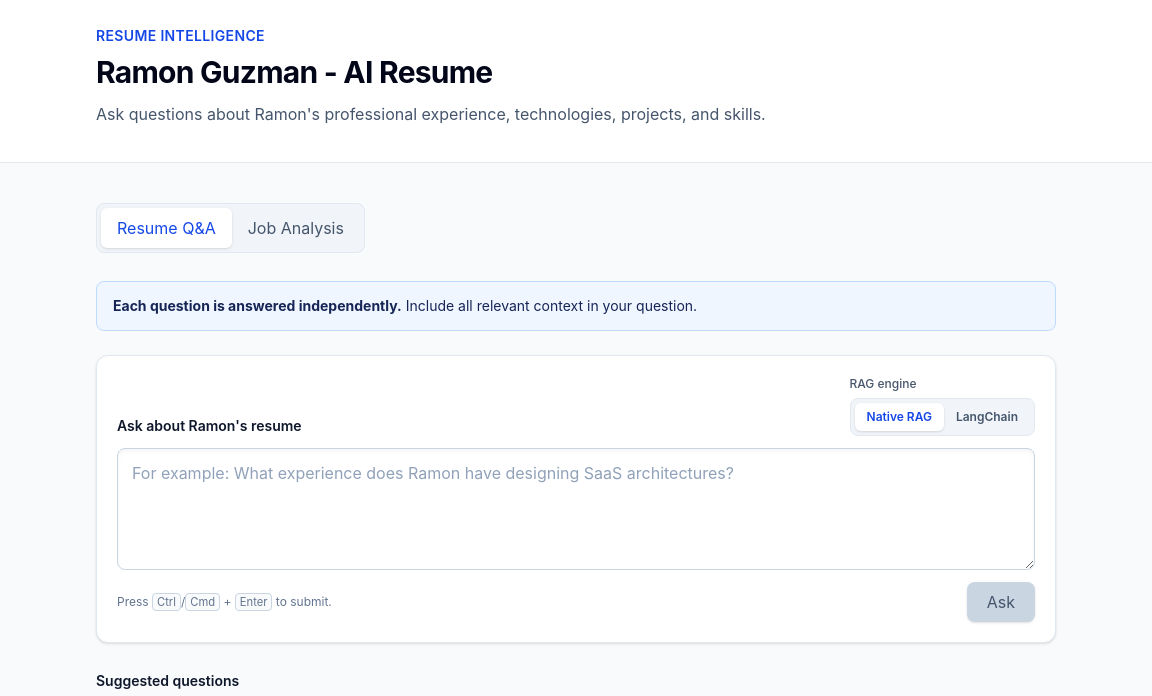
Test: AI Resume application › uses Native RAG by default and routes LangChain requests to its endpoint
The image size is (1152, 696).
Expected: the radio button labelled "Native RAG" is checked, [854,403,944,431]
Click the radio button labelled "LangChain" at (987, 416), box [956,409,1018,424]
(page scrolled)
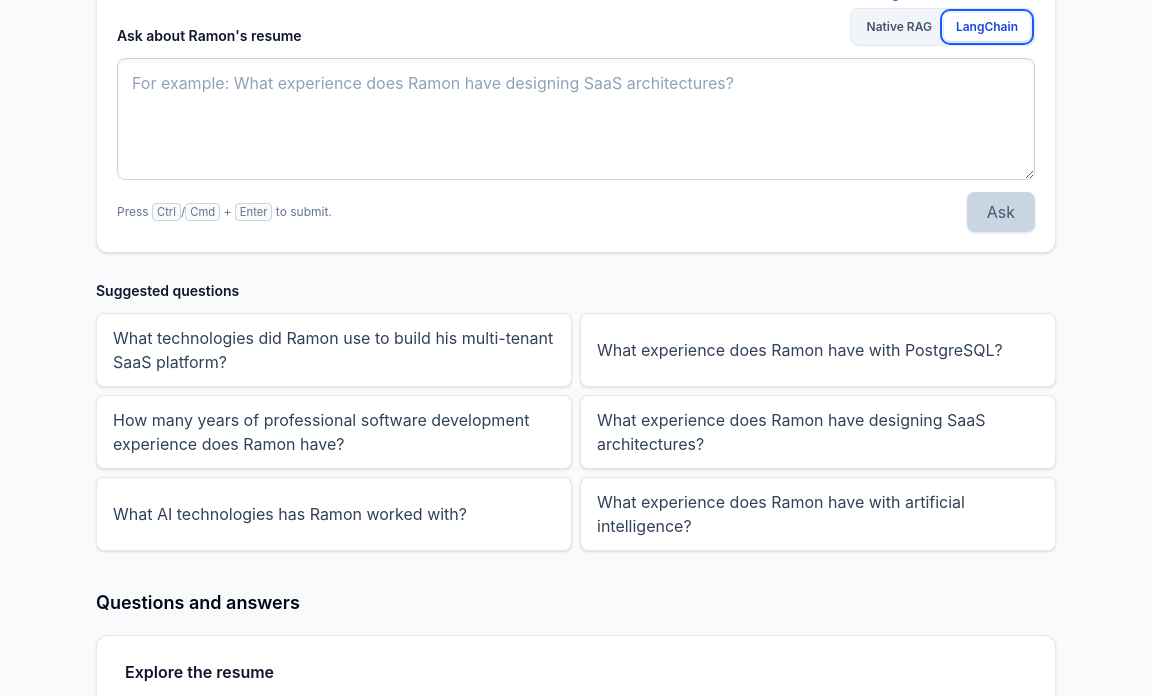
Expected: the radio button labelled "LangChain" is checked, [944,13,1030,41]
Click the button "What experience does Ramon have with PostgreSQL?" at (818, 350), box [580,313,1056,387]
(page scrolled)
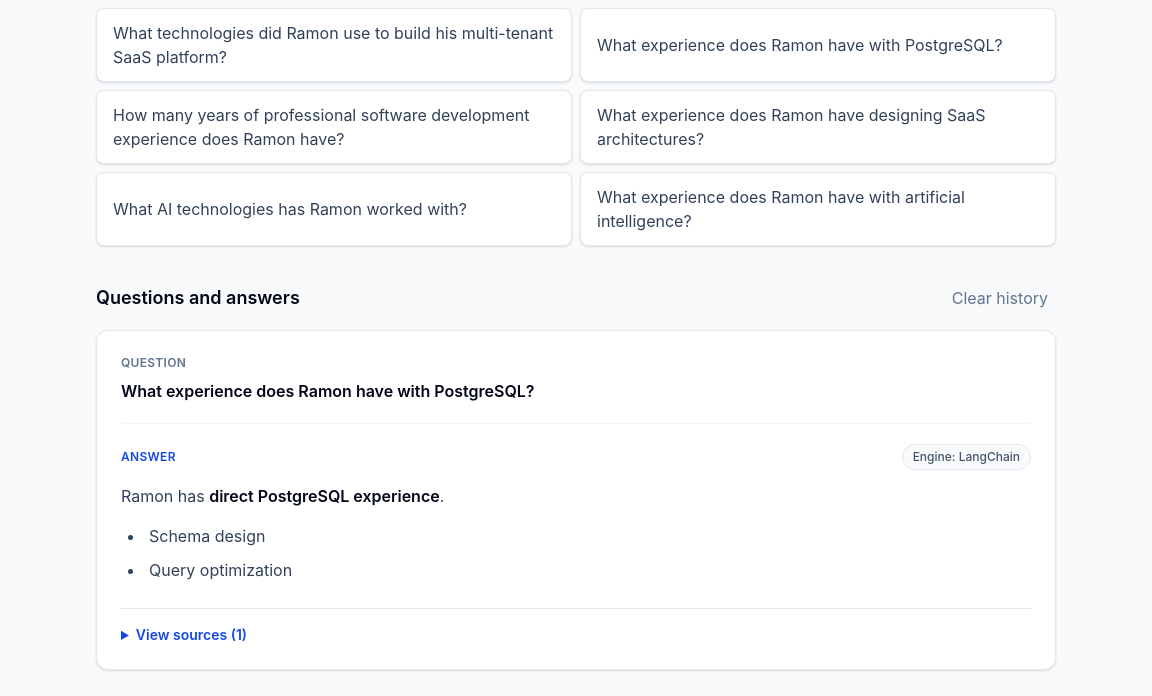
Expected: the text "Engine: LangChain" is shown, [902,444,1031,470]
